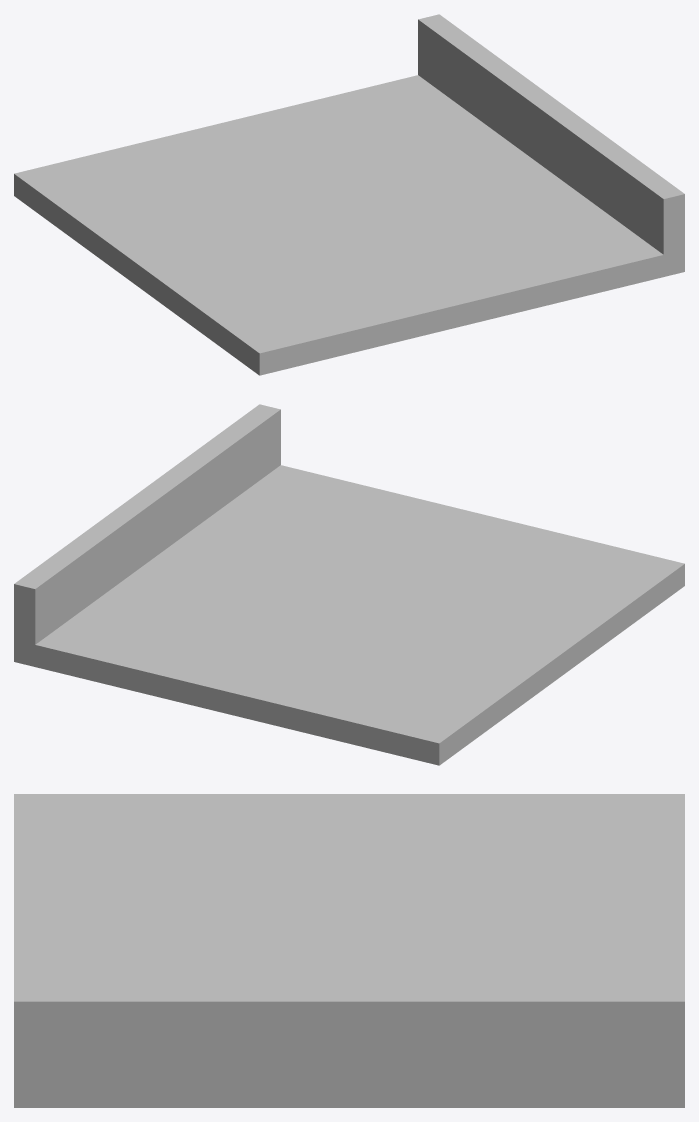
The model's file is MetalRoof_1Edge.glb.
The picture shows the model from 3 angles, top to bottom: view 1: azimuth 30°, elevation 25°; view 2: azimuth 150°, elevation 25°; view 3: azimuth 270°, elevation 25°; orthographic projection. The views are drawn at different scales.
Parts seen in each view (by area): view 1: roof_flat_1Edge_metal; view 2: roof_flat_1Edge_metal; view 3: roof_flat_1Edge_metal.
Boxes of the visible parts, left/top/right/bottom form: roof_flat_1Edge_metal: left=14, top=14, right=684, bottom=375; roof_flat_1Edge_metal: left=14, top=404, right=684, bottom=765; roof_flat_1Edge_metal: left=14, top=794, right=684, bottom=1107.
Size of what is drawn, in the model's own units: 4 by 0.7 by 4.
Materials: 1 (1 with a texture image).
